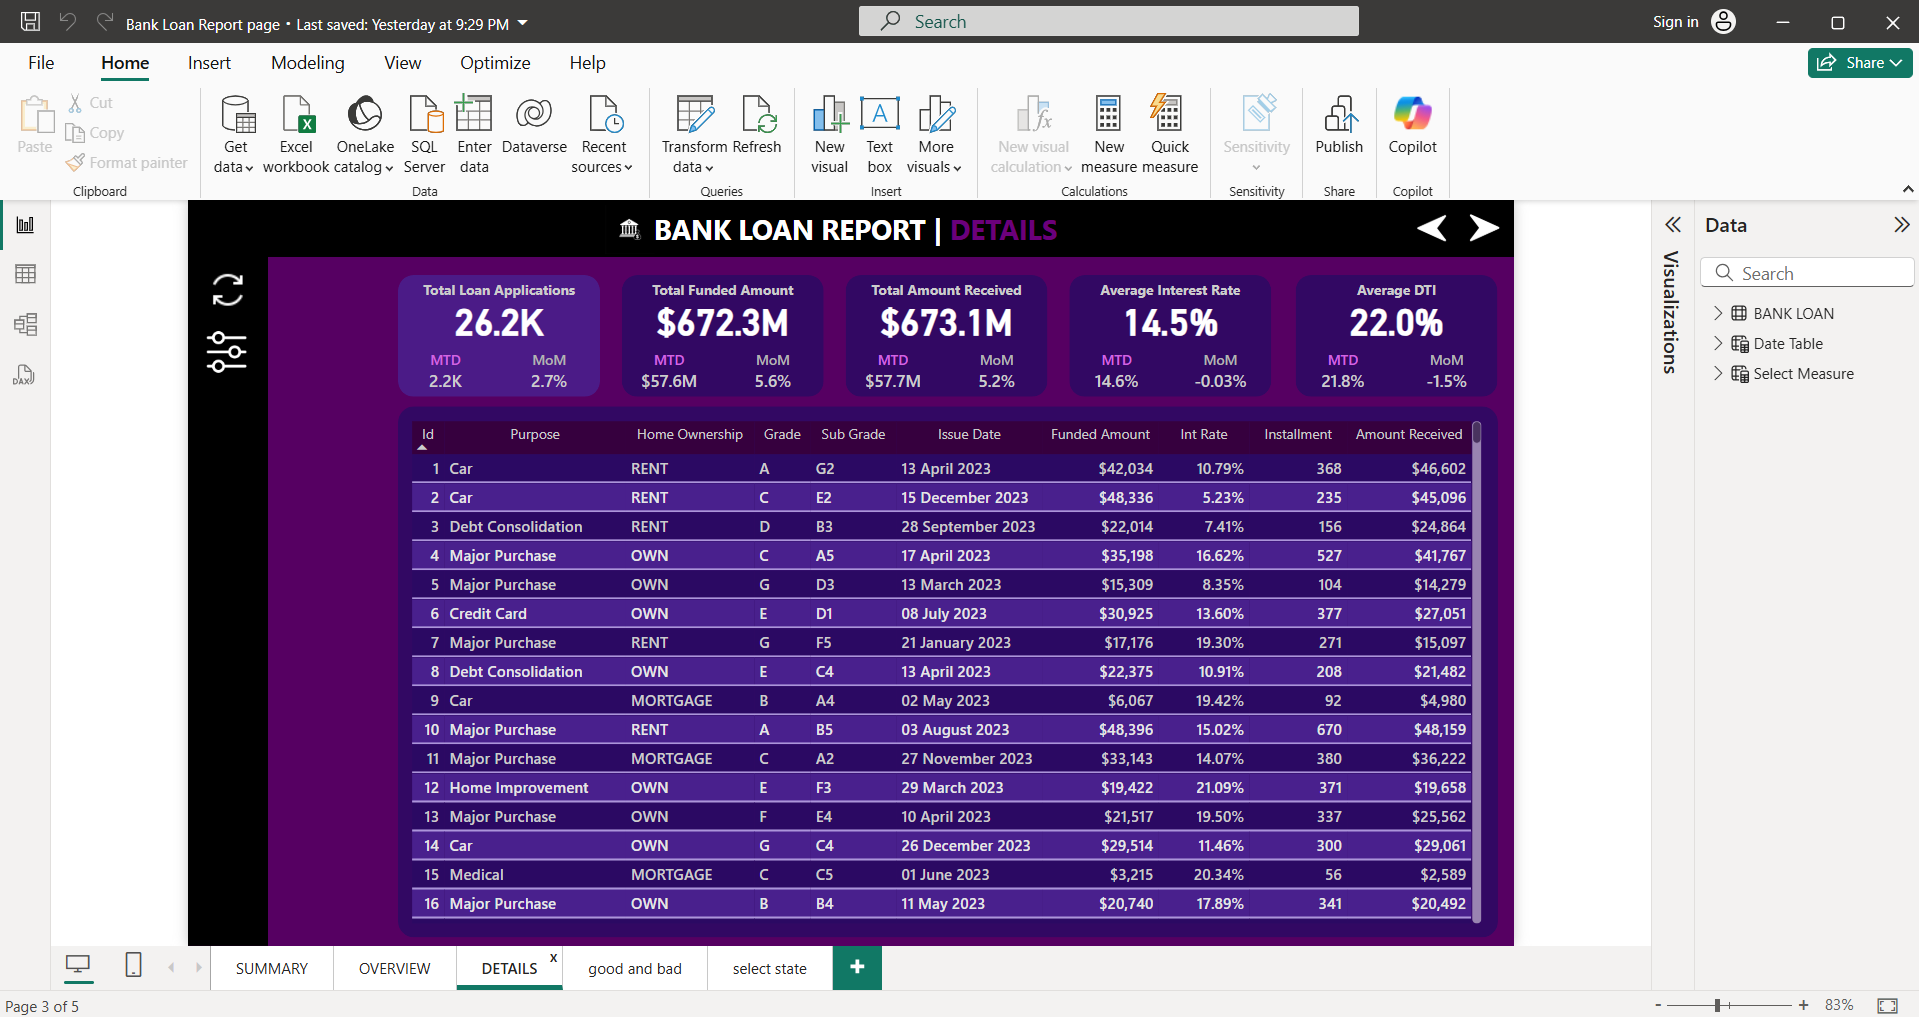

This screenshot's page, from the dashboard's own definition file:
{"tool":"powerbi","page":{"name":"DETAILS","canvas":[1280,720],"ordinal":2},"visuals":[{"type":"shape","box":[0,51.6,77.2,668.4],"z":0},{"type":"shape","box":[1069.1,72.4,195,117.5],"z":0,"group":"g5"},{"type":"shape","box":[202.5,72.5,195,117.5],"z":0,"group":"g1"},{"type":"shape","box":[418.4,72.5,195,117.5],"z":0,"group":"g2"},{"type":"shape","box":[634.4,72.5,195,117.5],"z":0,"group":"g3"},{"type":"shape","box":[850.3,72.5,195,117.5],"z":0,"group":"g4"},{"type":"shape","box":[0,0,1280,55],"z":1000},{"type":"card","fields":{"Values":["BANK LOAN.Average DTI"]},"box":[1069.1,86.2,195,58.8],"z":1000,"group":"g5"},{"type":"card","fields":{"Values":["BANK LOAN.Total_Loan_Application"]},"box":[202.5,86.3,195,58.8],"z":1000,"group":"g1"},{"type":"card","fields":{"Values":["BANK LOAN.Total_Funded_Amount"]},"box":[418.4,86.3,195,58.8],"z":1000,"group":"g2"},{"type":"card","fields":{"Values":["BANK LOAN.Total_Amount_Received"]},"box":[634.4,86.3,195,58.8],"z":1000,"group":"g3"},{"type":"card","fields":{"Values":["BANK LOAN.Average_Int_Rate"]},"box":[850.3,86.3,195,58.8],"z":1000,"group":"g4"},{"type":"textbox","box":[437.9,4.8,412.6,47.1],"z":2000},{"type":"textbox","box":[1069.1,72.4,195,28.8],"z":2000,"group":"g5"},{"type":"textbox","box":[202.5,72.5,195,28.8],"z":2000,"group":"g1"},{"type":"textbox","box":[418.4,72.5,195,28.8],"z":2000,"group":"g2"},{"type":"textbox","box":[634.4,72.5,195,28.8],"z":2000,"group":"g3"},{"type":"textbox","box":[850.3,72.5,195,28.8],"z":2000,"group":"g4"},{"type":"group","id":"g1","title":"Group 1","box":[202.5,72.5,195,117.5],"z":3000},{"type":"card","title":"MTD","fields":{"Values":["BANK LOAN.MTD Avg DTI"]},"box":[1081.6,144.9,67.5,45],"z":3000,"group":"g5"},{"type":"card","title":"MTD","fields":{"Values":["BANK LOAN.MTD Loan Application"]},"box":[215,145,67.5,45],"z":3000,"group":"g1"},{"type":"card","title":"MTD","fields":{"Values":["BANK LOAN.MTD Funded Amount"]},"box":[430.9,145,67.5,45],"z":3000,"group":"g2"},{"type":"card","title":"MTD","fields":{"Values":["BANK LOAN.MTD Total Amount Received"]},"box":[646.9,145,67.5,45],"z":3000,"group":"g3"},{"type":"card","title":"MTD","fields":{"Values":["BANK LOAN.MTD Avg Int Rate"]},"box":[862.8,145,67.5,45],"z":3000,"group":"g4"},{"type":"group","id":"g2","title":"Group 1","box":[418.4,72.5,195,117.5],"z":4000},{"type":"card","title":"MoM","fields":{"Values":["BANK LOAN.MoM Avg DTI"]},"box":[1181.6,144.9,67.5,45],"z":4000,"group":"g5"},{"type":"card","title":"MoM","fields":{"Values":["BANK LOAN.MoM Loan Appilaction"]},"box":[315,145,67.5,45],"z":4000,"group":"g1"},{"type":"card","title":"MoM","fields":{"Values":["BANK LOAN.MoM Total Funded Amount"]},"box":[530.9,145,67.5,45],"z":4000,"group":"g2"},{"type":"card","title":"MoM","fields":{"Values":["BANK LOAN.MoM Total Amoun Received"]},"box":[746.9,145,67.5,45],"z":4000,"group":"g3"},{"type":"card","title":"MoM","fields":{"Values":["BANK LOAN.MoM Avg Int Rate"]},"box":[962.8,145,67.5,45],"z":4000,"group":"g4"},{"type":"group","id":"g3","title":"Group 1","box":[634.4,72.5,195,117.5],"z":5000},{"type":"group","id":"g4","title":"Group 1","box":[850.3,72.5,195,117.5],"z":6000},{"type":"group","id":"g5","title":"Group 1","box":[1069.1,72.4,195,117.5],"z":7000},{"type":"image","box":[393.3,0,66.4,56.7],"z":8000},{"type":"shape","box":[202.7,199.1,1061.7,512.7],"z":9000},{"type":"tableEx","fields":{"Values":["BANK LOAN.id","BANK LOAN.purpose","BANK LOAN.home_ownership","BANK LOAN.grade","BANK LOAN.sub_grade","BANK LOAN.issue_date","BANK LOAN.Total Funded Amount","BANK LOAN.Average Int Rate","Sum(BANK LOAN.installment)","BANK LOAN.Total Amount Received"]},"box":[209.9,208.7,1043.6,494.6],"z":10000},{"type":"image","box":[13.9,58.9,50.2,55.4],"z":11000},{"type":"image","box":[6.9,121.2,60.6,51.9],"z":12000},{"type":"image","box":[1181.1,6,39,42.2],"z":14000},{"type":"image","box":[1231.8,6,39.8,42.2],"z":15000}]}

Visuals, with their boxes on the page's 1280x720 design canvas (x1, y1, x2, y2). These are canvas units, not pixel positions in the 1919x1017 screenshot, which may show the page scaled, cropped or inside an application window:
shape: x1=0 y1=52 x2=77 y2=720
shape: x1=1069 y1=72 x2=1264 y2=190
shape: x1=202 y1=72 x2=398 y2=190
shape: x1=418 y1=72 x2=613 y2=190
shape: x1=634 y1=72 x2=829 y2=190
shape: x1=850 y1=72 x2=1045 y2=190
shape: x1=0 y1=0 x2=1280 y2=55
card - BANK LOAN.Average DTI: x1=1069 y1=86 x2=1264 y2=145
card - BANK LOAN.Total_Loan_Application: x1=202 y1=86 x2=398 y2=145
card - BANK LOAN.Total_Funded_Amount: x1=418 y1=86 x2=613 y2=145
card - BANK LOAN.Total_Amount_Received: x1=634 y1=86 x2=829 y2=145
card - BANK LOAN.Average_Int_Rate: x1=850 y1=86 x2=1045 y2=145
textbox: x1=438 y1=5 x2=850 y2=52
textbox: x1=1069 y1=72 x2=1264 y2=101
textbox: x1=202 y1=72 x2=398 y2=101
textbox: x1=418 y1=72 x2=613 y2=101
textbox: x1=634 y1=72 x2=829 y2=101
textbox: x1=850 y1=72 x2=1045 y2=101
"Group 1" group: x1=202 y1=72 x2=398 y2=190
"MTD" card: x1=1082 y1=145 x2=1149 y2=190
"MTD" card: x1=215 y1=145 x2=282 y2=190
"MTD" card: x1=431 y1=145 x2=498 y2=190
"MTD" card: x1=647 y1=145 x2=714 y2=190
"MTD" card: x1=863 y1=145 x2=930 y2=190
"Group 1" group: x1=418 y1=72 x2=613 y2=190
"MoM" card: x1=1182 y1=145 x2=1249 y2=190
"MoM" card: x1=315 y1=145 x2=382 y2=190
"MoM" card: x1=531 y1=145 x2=598 y2=190
"MoM" card: x1=747 y1=145 x2=814 y2=190
"MoM" card: x1=963 y1=145 x2=1030 y2=190
"Group 1" group: x1=634 y1=72 x2=829 y2=190
"Group 1" group: x1=850 y1=72 x2=1045 y2=190
"Group 1" group: x1=1069 y1=72 x2=1264 y2=190
image: x1=393 y1=0 x2=460 y2=57
shape: x1=203 y1=199 x2=1264 y2=712
tableEx - BANK LOAN.id x BANK LOAN.purpose: x1=210 y1=209 x2=1254 y2=703
image: x1=14 y1=59 x2=64 y2=114
image: x1=7 y1=121 x2=68 y2=173
image: x1=1181 y1=6 x2=1220 y2=48
image: x1=1232 y1=6 x2=1272 y2=48
